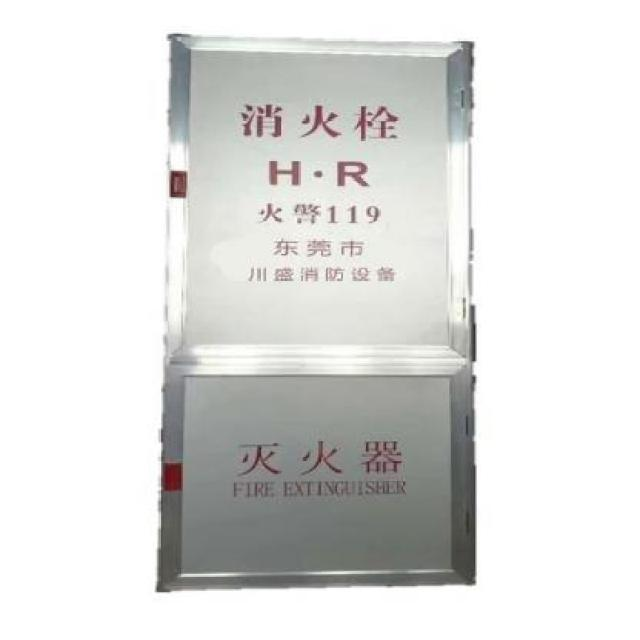firehydrant: (149, 26, 488, 598)
